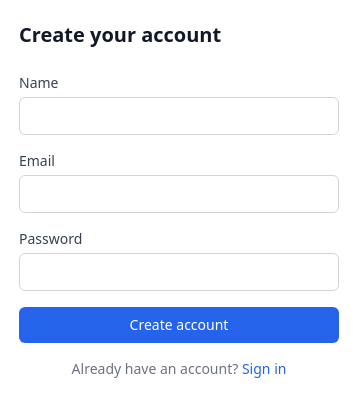
Scenario: RegisterScreen › shows an inline error for a password under 8 characters
In the field labelled "Name": (179, 116) left=19, top=97, right=339, bottom=135, type "Alice"
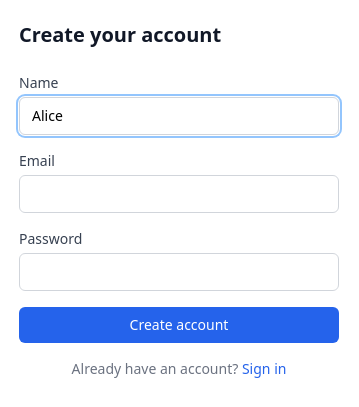
In the field labelled "Email": (179, 194) left=19, top=175, right=339, bottom=213, type "alice@example.com"
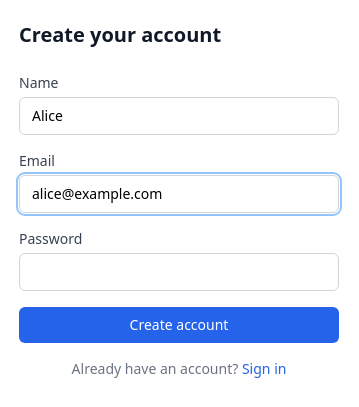
In the password field labelled "Password": (179, 272) left=19, top=253, right=339, bottom=291, type "short"
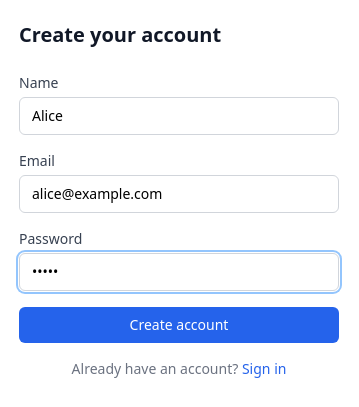
Click the button "Create account": (179, 325) left=19, top=307, right=339, bottom=343
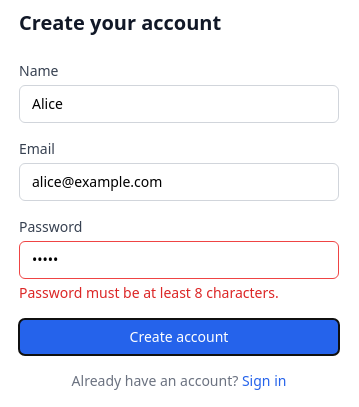
Now the text "Password must be at least 8 characters." is shown, box left=19, top=283, right=279, bottom=302
